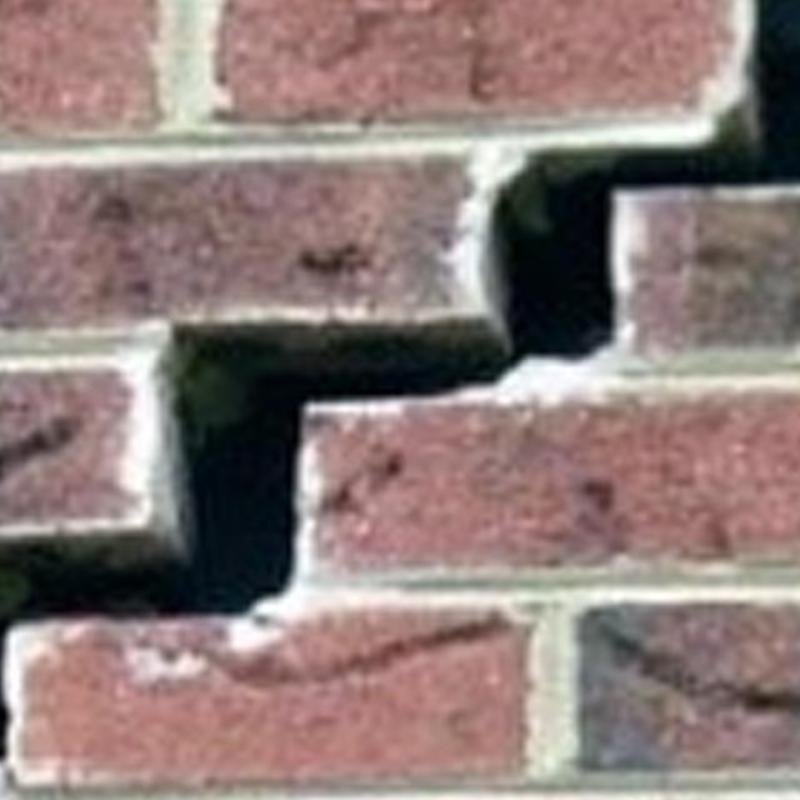pothole: (0, 319, 511, 699), (495, 0, 799, 357)
